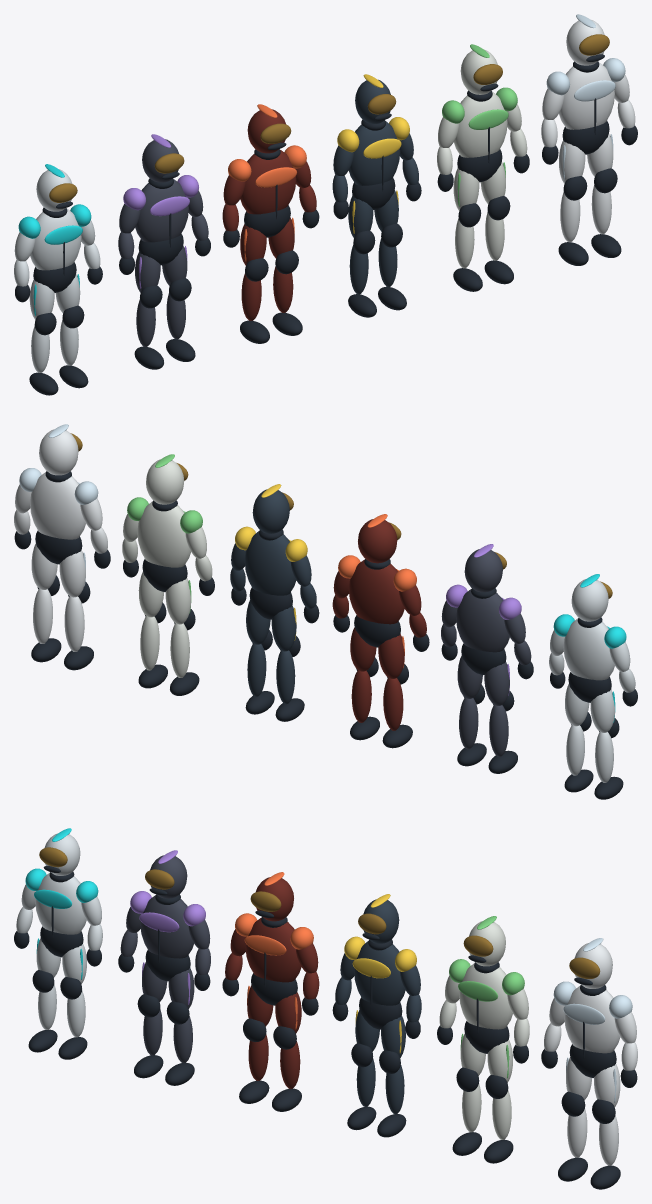
File: racers.glb
3 renders of one model, top to bottom at view 1: azimuth 30°, elevation 25°; view 2: azimuth 150°, elevation 25°; view 3: azimuth 330°, elevation 25°, orthographic.
Parts seen in each view (by area): view 1: Freya Torso, Sofia Torso, Leo Torso, Kai Torso, Zuri Torso, Maya Torso, Freya Waist, Leo Waist, Sofia Waist, Freya Helmet, Sofia Helmet, Leo Helmet (+42 smaller); view 2: Freya Torso, Sofia Torso, Leo Torso, Kai Torso, Zuri Torso, Maya Torso, Freya Helmet, Leo Helmet, Sofia Helmet, Zuri Helmet, Kai Helmet, Maya Helmet (+32 smaller); view 3: Freya Torso, Sofia Torso, Leo Torso, Zuri Torso, Kai Torso, Maya Torso, Freya Waist, Sofia Waist, Leo Waist, Freya Helmet, Leo Helmet, Kai Waist (+48 smaller).
Boxes of the visible parts, <box> form: Freya Torso: <box>559,62,614,129</box>; Sofia Torso: <box>240,150,296,214</box>; Leo Torso: <box>454,92,507,157</box>; Kai Torso: <box>135,179,188,242</box>; Zuri Torso: <box>348,121,400,185</box>; Maya Torso: <box>30,208,81,270</box>; Freya Waist: <box>562,121,609,154</box>; Leo Waist: <box>457,149,502,182</box>; Sofia Waist: <box>244,205,290,237</box>; Freya Helmet: <box>566,20,604,65</box>; Sofia Helmet: <box>247,109,285,153</box>; Leo Helmet: <box>460,49,497,94</box>; Freya Torso: <box>30,472,85,539</box>; Sofia Torso: <box>348,559,404,624</box>; Leo Torso: <box>137,501,190,567</box>; Kai Torso: <box>456,589,509,652</box>; Zuri Torso: <box>244,531,296,595</box>; Maya Torso: <box>563,618,614,680</box>; Freya Helmet: <box>39,429,78,475</box>; Leo Helmet: <box>146,459,184,504</box>; Sofia Helmet: <box>358,519,397,563</box>; Zuri Helmet: <box>252,489,289,533</box>; Kai Helmet: <box>464,549,502,592</box>; Maya Helmet: <box>571,579,608,621</box>; Freya Torso: <box>564,986,620,1053</box>; Sofia Torso: <box>245,917,301,982</box>; Leo Torso: <box>459,963,512,1029</box>; Zuri Torso: <box>354,941,405,1005</box>; Kai Torso: <box>140,895,193,958</box>; Maya Torso: <box>35,873,86,934</box>; Freya Waist: <box>569,1044,616,1077</box>; Sofia Waist: <box>251,973,297,1005</box>; Leo Waist: <box>464,1021,509,1053</box>; Freya Helmet: <box>574,943,612,988</box>; Leo Helmet: <box>469,921,505,966</box>; Kai Waist: <box>145,950,190,981</box>.
Size of the model in its own units: 5.56 by 2.02 by 0.385.
